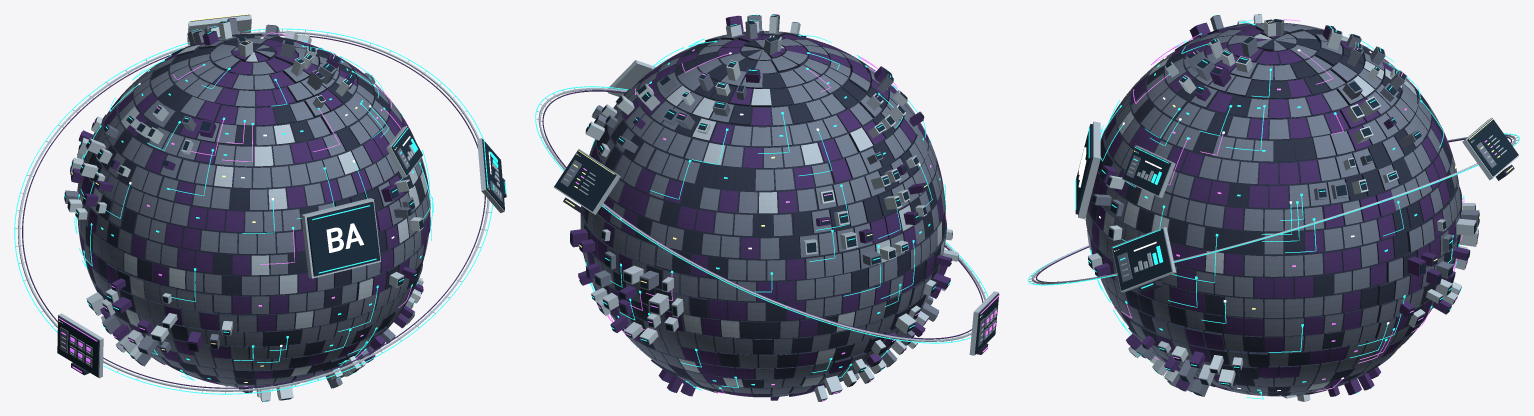
Rendered from bergquist-world.glb.
3 views of the same model, side by side, from view 1: azimuth 30°, elevation 25°; view 2: azimuth 150°, elevation 25°; view 3: azimuth 270°, elevation 25° (orthographic). The views are drawn at different scales.
Parts seen in each view (by area): view 1: Architectural shell, Component districts, Obsidian core, Orbital rails, Bergquist nexus housing, Circuit connections, Components interface module, Data interface module, Surface analytics, Code interface module, BA monogram; view 2: Architectural shell, Component districts, Obsidian core, Orbital rails, Code interface module, Circuit connections, Components interface module, Data interface module; view 3: Architectural shell, Component districts, Obsidian core, Circuit connections, Data interface module, Code interface module, Surface analytics, Orbital rails, Bergquist nexus housing.
Part boxes in pixels (x1,y1,x2,y2): Architectural shell: (77,33,430,388); Component districts: (64,17,423,401); Obsidian core: (81,36,428,386); Orbital rails: (14,28,492,394); Bergquist nexus housing: (301,198,381,278); Circuit connections: (74,32,433,390); Components interface module: (57,313,103,378); Data interface module: (477,138,506,212); Surface analytics: (386,126,422,178); Code interface module: (187,14,251,44); BA monogram: (326,223,363,252); Architectural shell: (580,30,946,397); Component districts: (570,14,958,401); Obsidian core: (584,34,943,395); Orbital rails: (535,86,988,343); Code interface module: (553,149,620,214); Circuit connections: (585,33,947,393); Components interface module: (969,291,999,355); Data interface module: (608,60,655,96); Architectural shell: (1085,23,1462,396); Component districts: (1088,14,1480,401); Obsidian core: (1090,25,1457,394); Circuit connections: (1090,19,1464,399); Data interface module: (1111,227,1176,292); Code interface module: (1462,117,1518,180); Surface analytics: (1122,145,1175,197); Orbital rails: (1028,133,1519,285); Bergquist nexus housing: (1075,121,1100,219).
Bounding box in the file's own units: 5.29 × 4.4 × 5.29.
